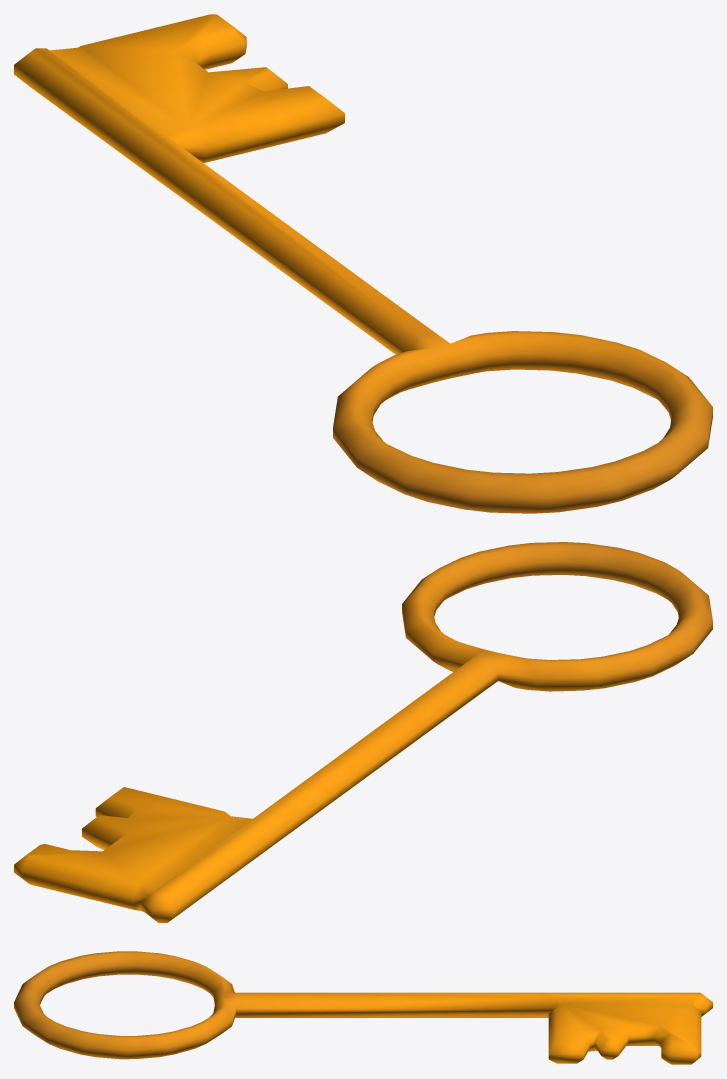
Rendered from goldkey.fbx.
3 views of the same model, one above another, from view 1: azimuth 30°, elevation 25°; view 2: azimuth 150°, elevation 25°; view 3: azimuth 270°, elevation 25° (orthographic). The views are drawn at different scales.
Parts seen in each view (by area): view 1: Circle; view 2: Circle; view 3: Circle.
Boxes of the visible parts, x1,y1,x2,y2 form: Circle: (14, 14, 712, 513); Circle: (14, 542, 712, 922); Circle: (14, 951, 712, 1064).
Size of the model in its own units: 16.13 by 1.54 by 47.35.
1 material, 1 textured.
